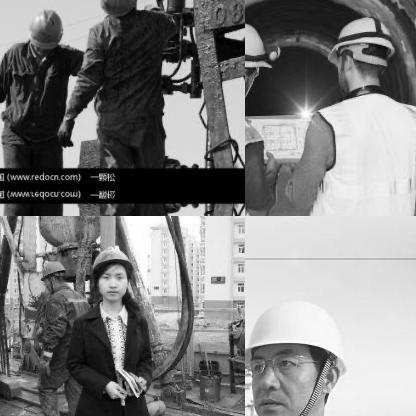Helmet: (245, 279, 361, 415), (322, 10, 400, 98), (87, 240, 137, 302), (245, 15, 273, 104), (22, 3, 63, 55), (38, 257, 66, 289), (93, 0, 140, 18)
